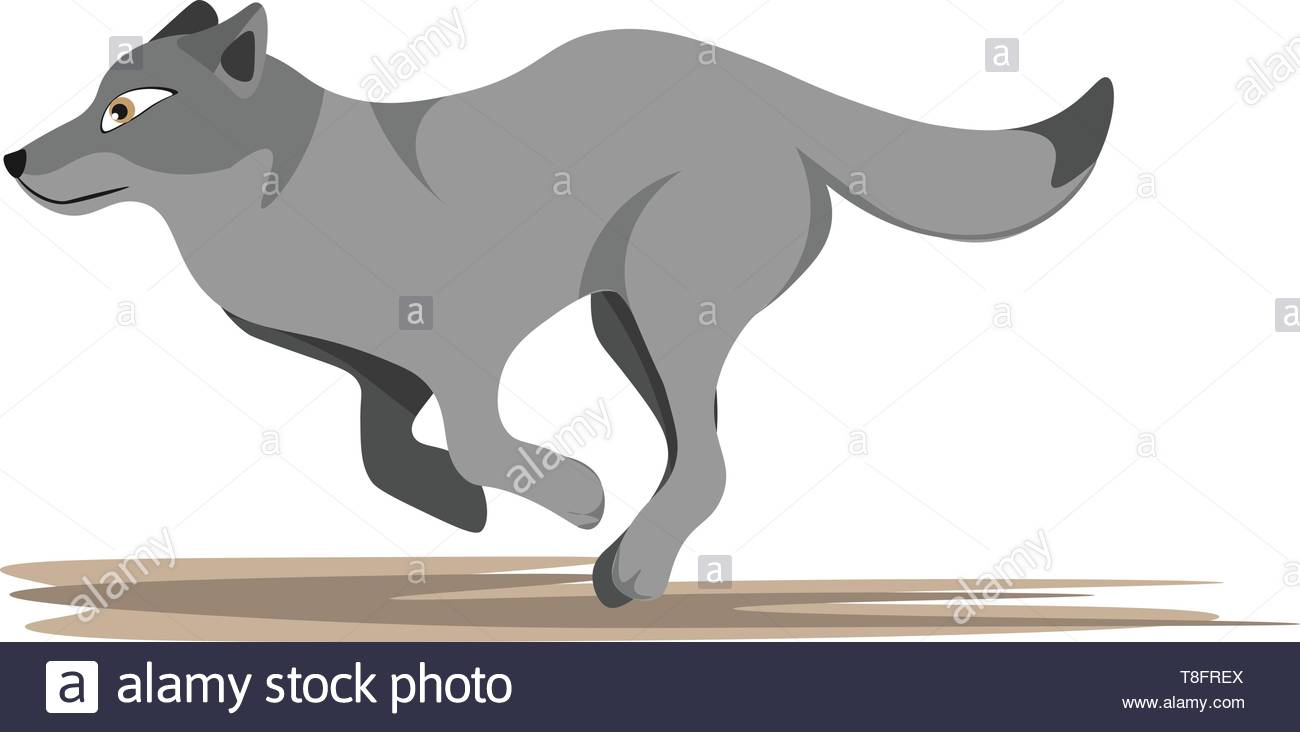Lobo: (17, 3, 1186, 609)
